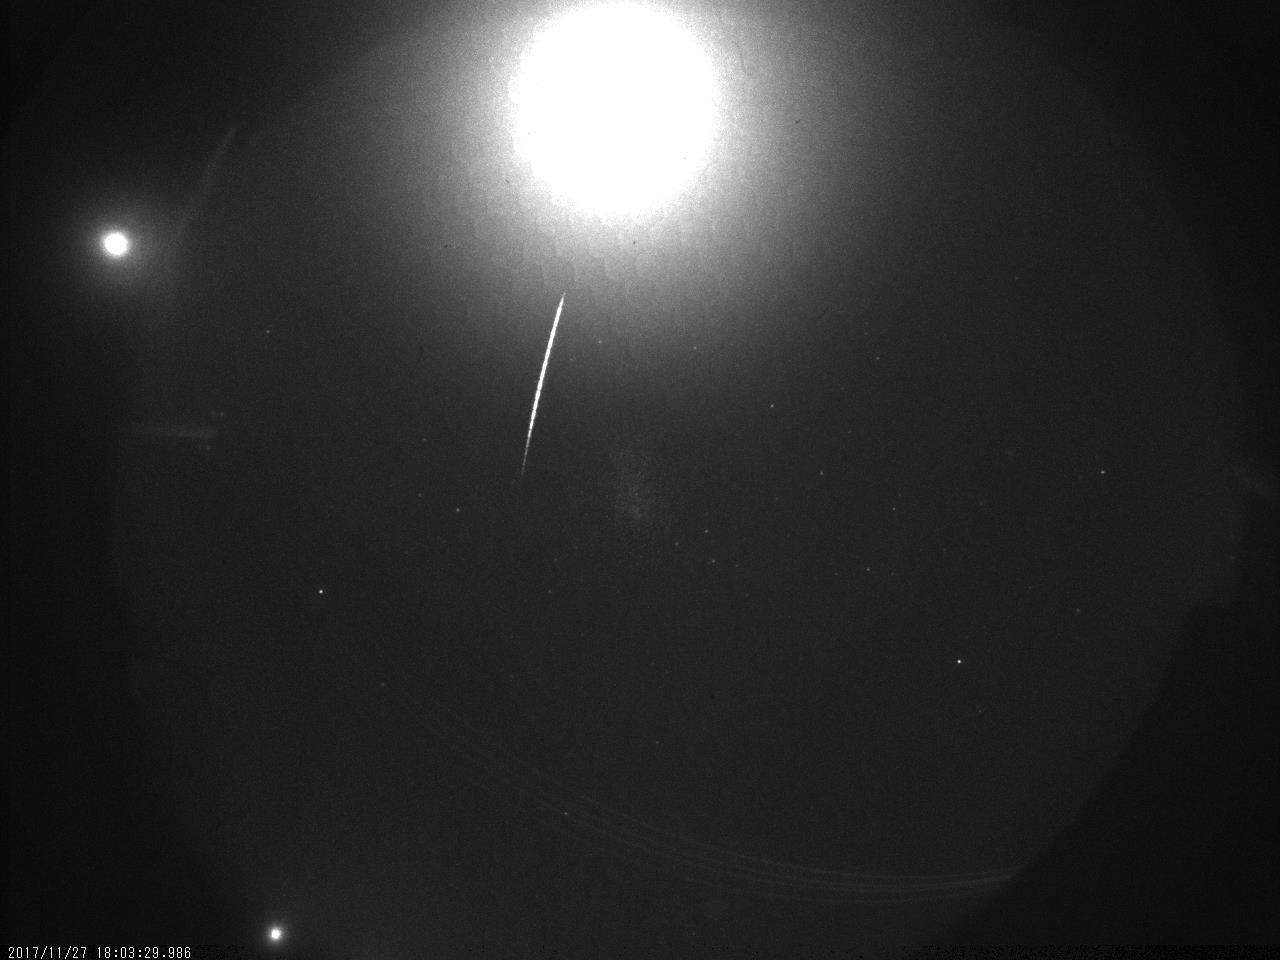Meteor: (509, 296, 567, 485)
